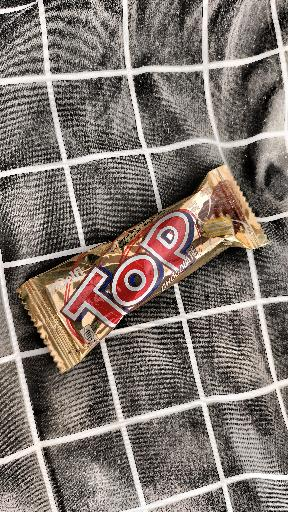top: (25, 155, 265, 383)
